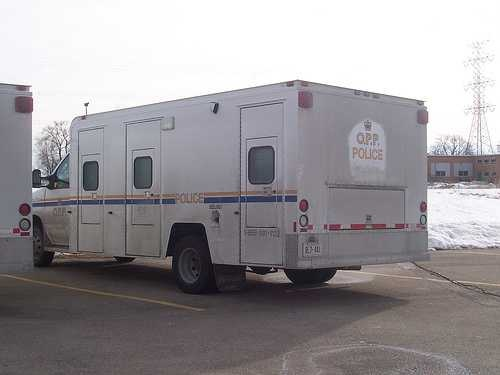Police Van: (21, 88, 444, 297)
